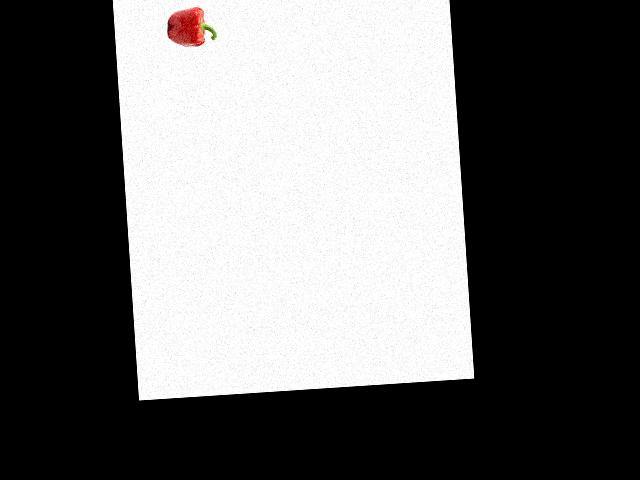bell_pepper: (163, 3, 218, 51)
